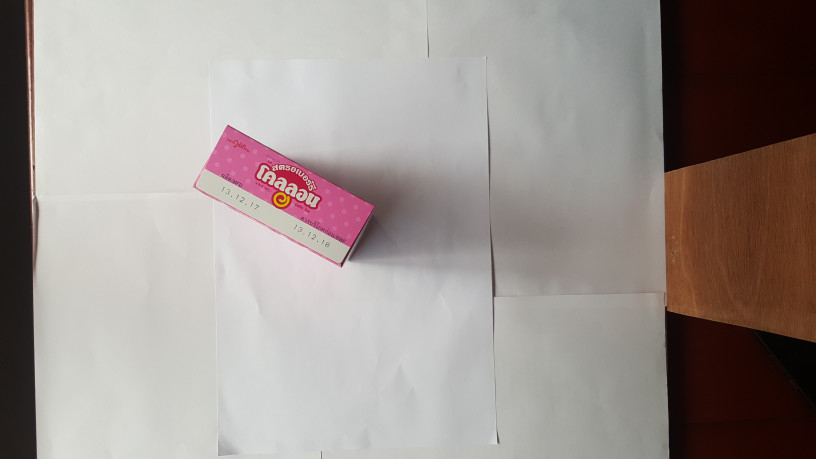collon-strawberry: (194, 125, 378, 266)
